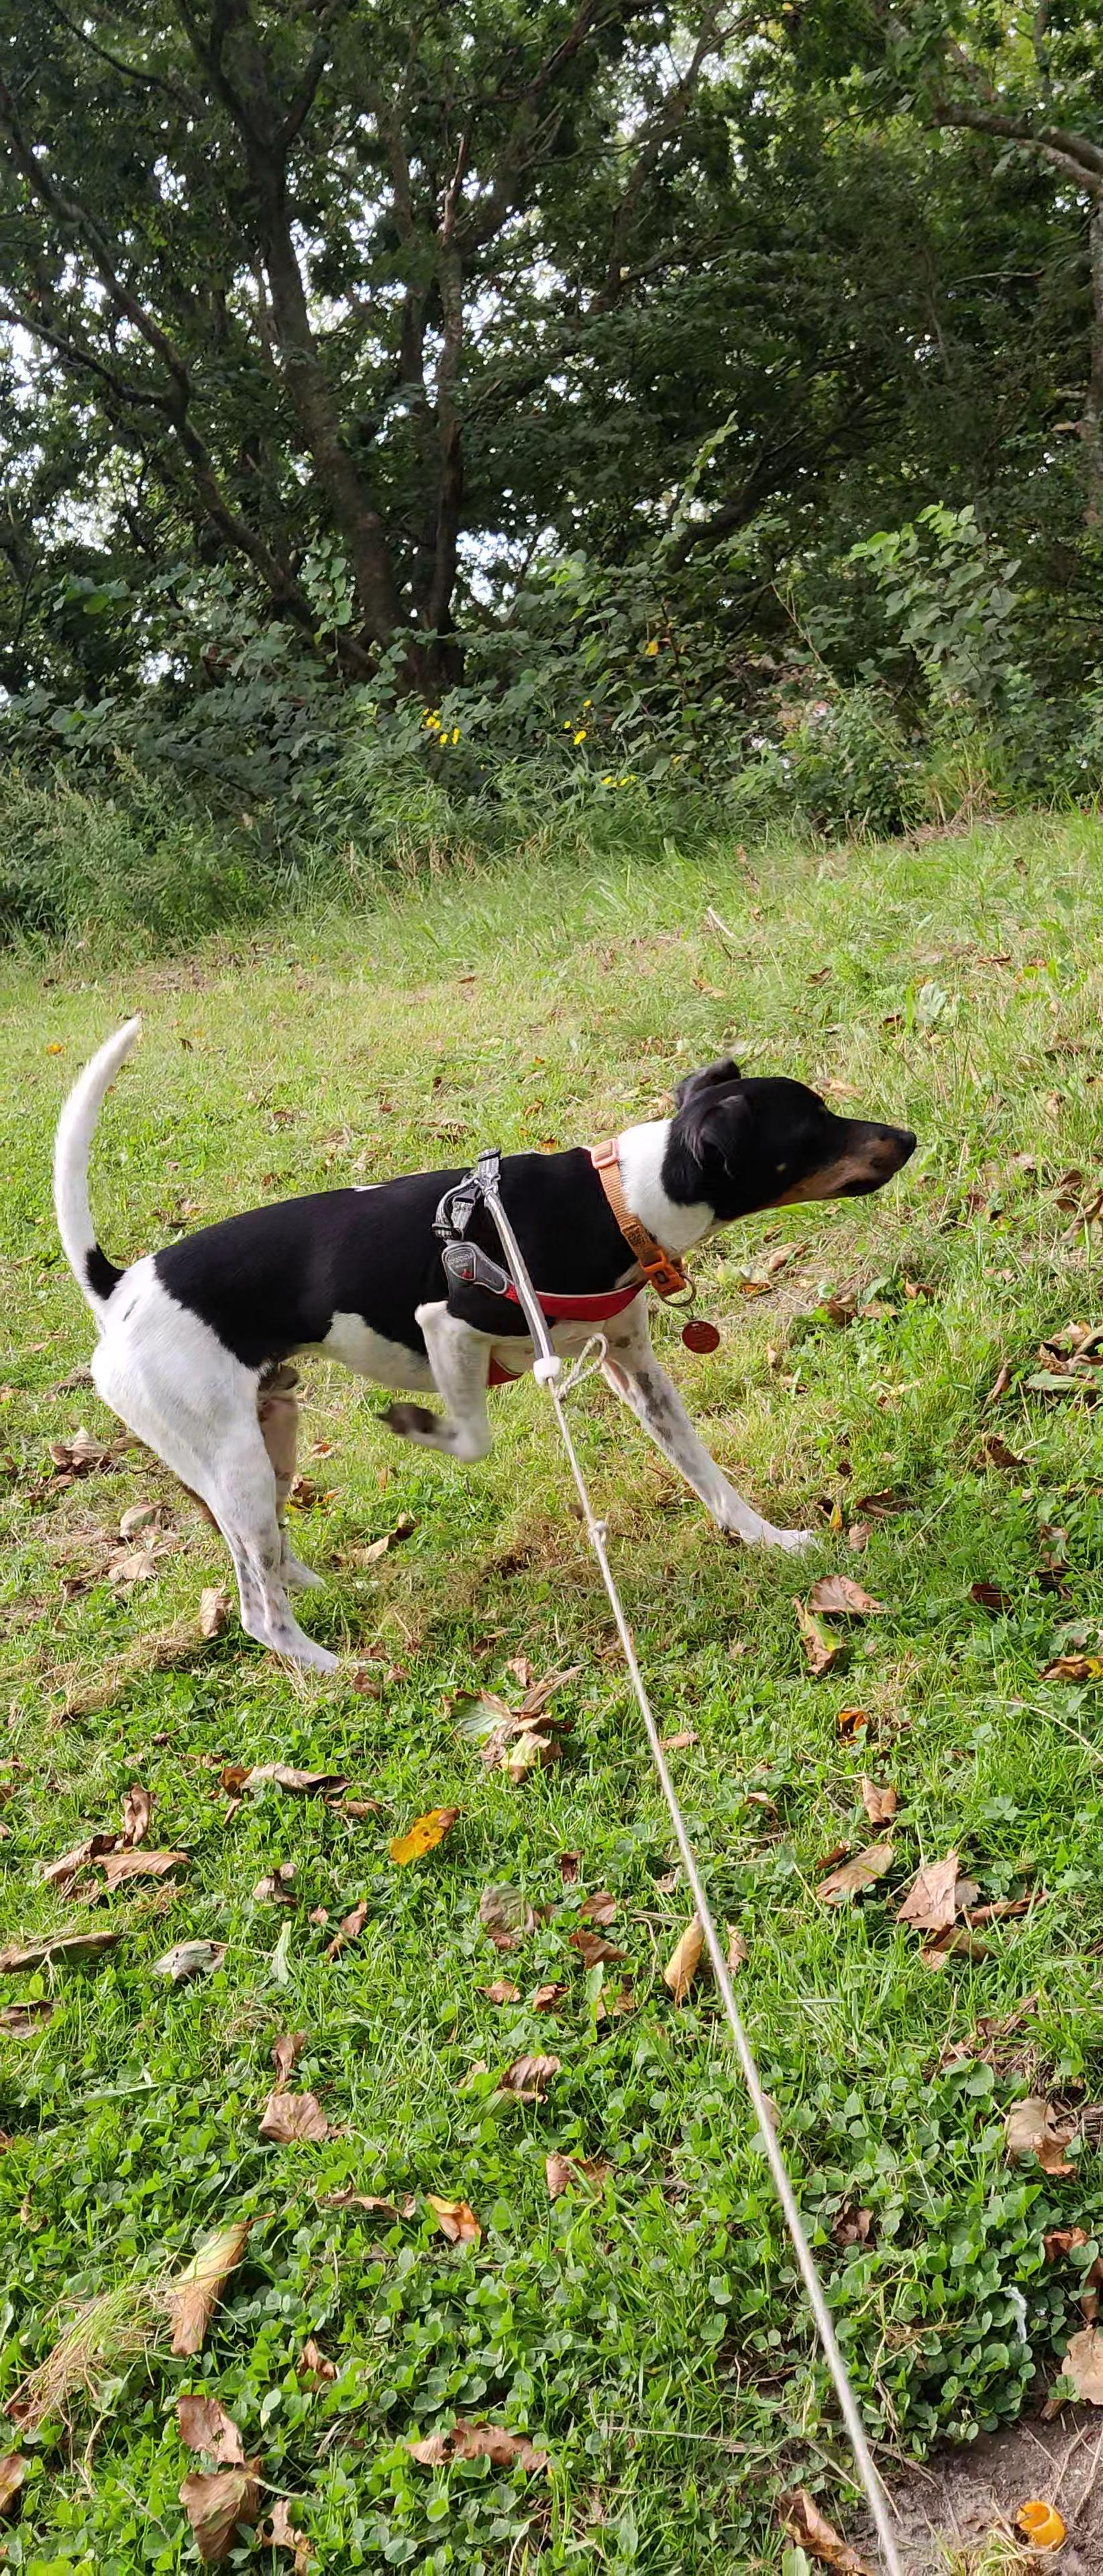Dog: (26, 974, 925, 1689)
